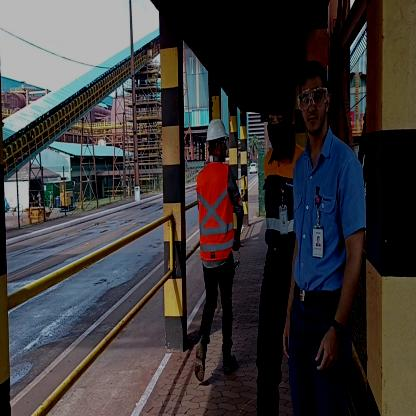Balaclava: (265, 89, 293, 157)
Capacete: (207, 118, 230, 140)
Operacional: (263, 150, 295, 245)
colete: (198, 163, 236, 255)
